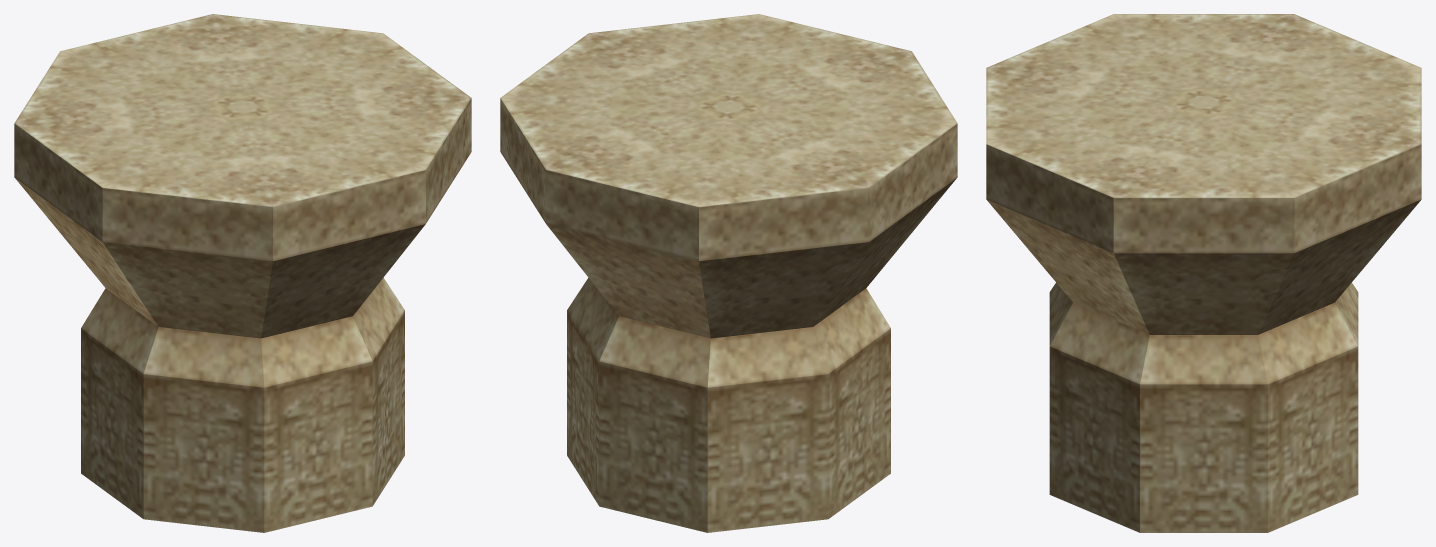
The model's file is general_obj_bigtoewr11.fbx.
3 renders of one model, left to right at view 1: azimuth 30°, elevation 25°; view 2: azimuth 150°, elevation 25°; view 3: azimuth 270°, elevation 25°, orthographic. The views are drawn at different scales.
Parts seen in each view (by area): view 1: Sphere01; view 2: Sphere01; view 3: Sphere01.
Part boxes in pixels (<box>): Sphere01: <box>14,14,471,532</box>; Sphere01: <box>500,14,957,532</box>; Sphere01: <box>986,14,1421,532</box>.
Size of the model in its own units: 4.31 by 4 by 4.31.
